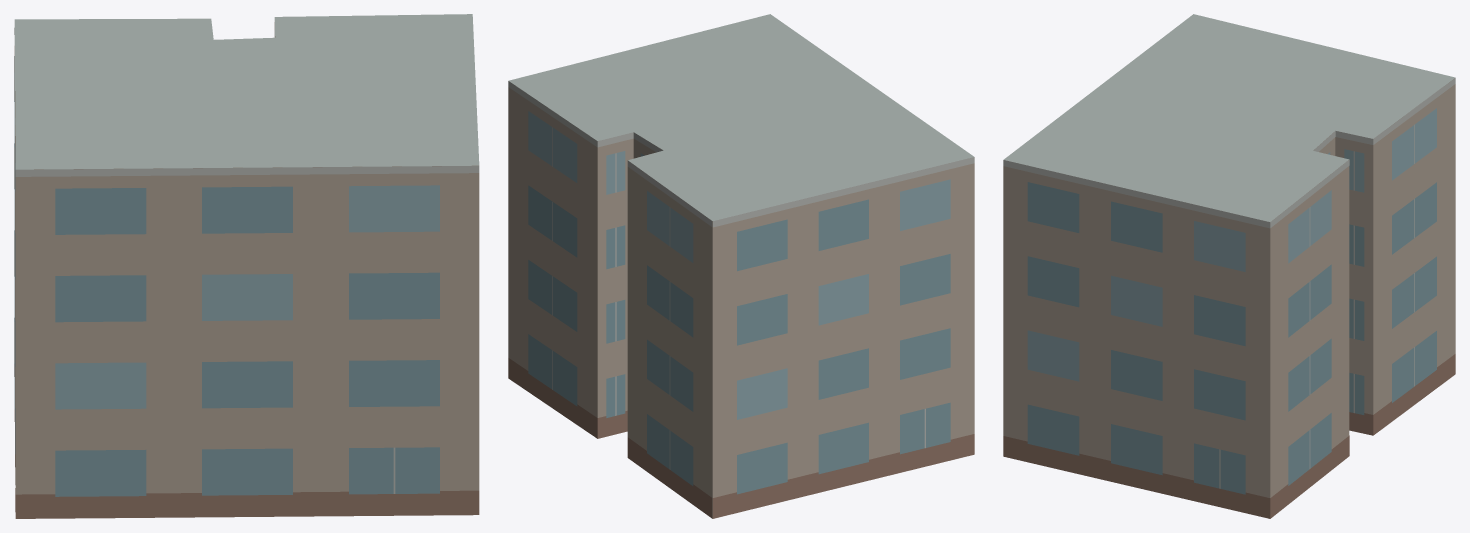
Rendered from survey-upis-32870653.glb.
3 views of the same model, side by side, from view 1: azimuth 30°, elevation 25°; view 2: azimuth 150°, elevation 25°; view 3: azimuth 270°, elevation 25° (orthographic). The views are drawn at different scales.
Visible parts, largest first — view 1: survey-upis-32870653.tmp; view 2: survey-upis-32870653.tmp; view 3: survey-upis-32870653.tmp.
Boxes of the visible parts, x1,y1,x2,y2 form: survey-upis-32870653.tmp: (14, 14, 479, 518); survey-upis-32870653.tmp: (508, 14, 974, 518); survey-upis-32870653.tmp: (1003, 14, 1455, 518).
Size of the model in its own units: 17.46 by 11.6 by 16.03.
